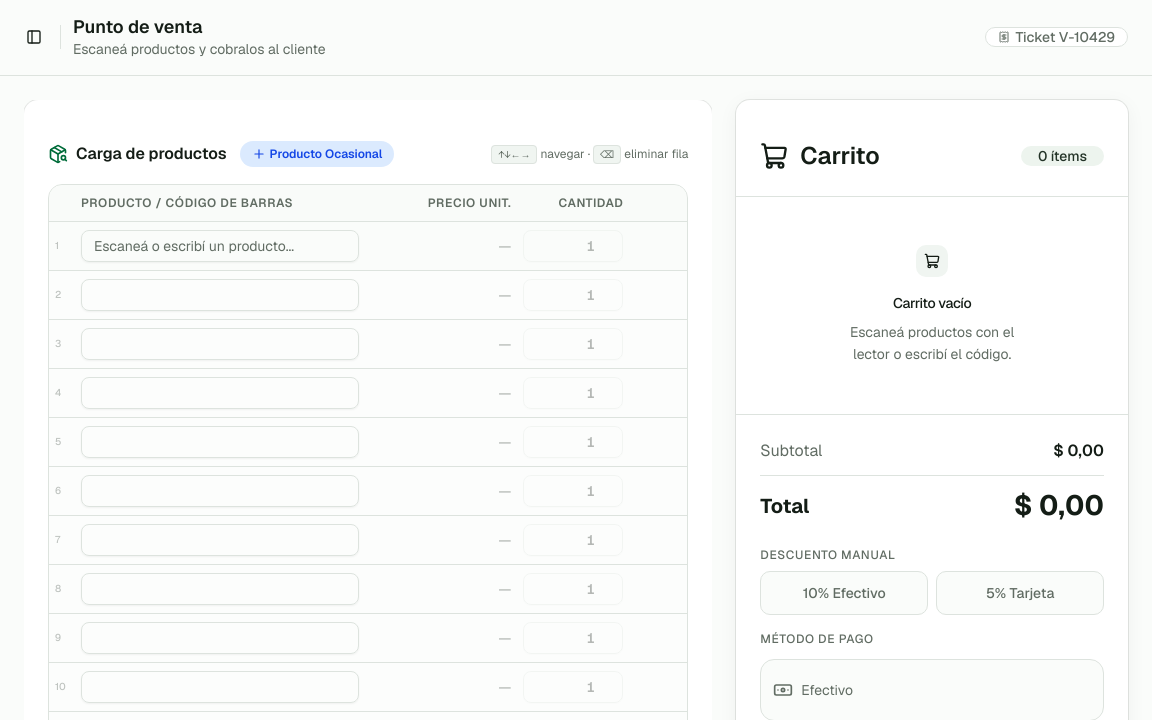
Test: PosTerminal sales flow › prints immediately with the backend sale total without a confirmation dialog
Later steps or results of the test are not shown.
In the field with placeholder "Escaneá o escribí un producto...": (220, 246) 81,230 -> 359,262, type "Promo"
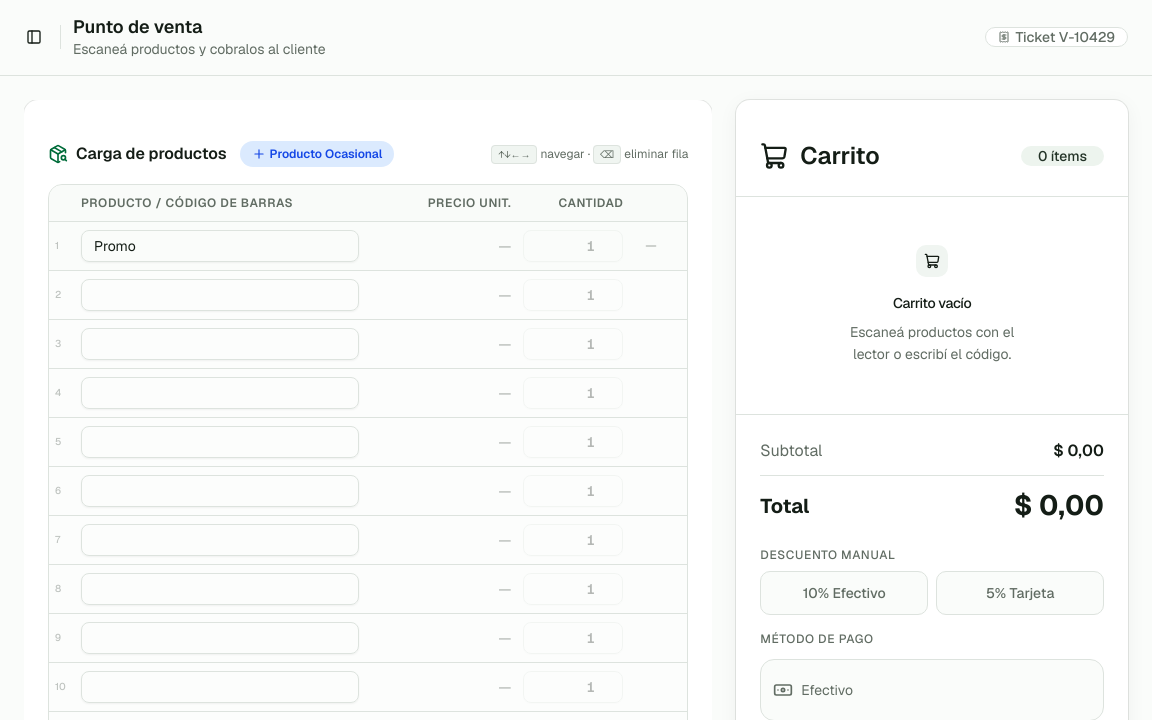
Press Enter in the field named "Producto fila 1", box 81,230 -> 359,262
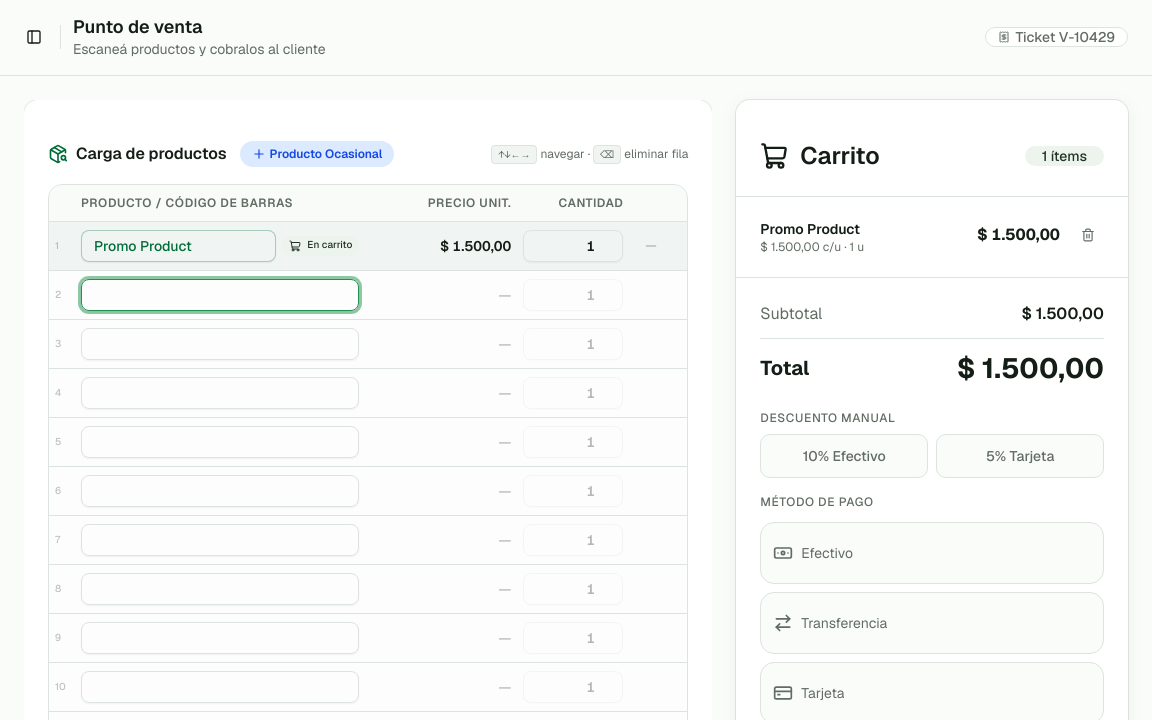
Replace the text in the number field named "Cantidad fila 1" with "3": (573, 246) 523,230 -> 623,262
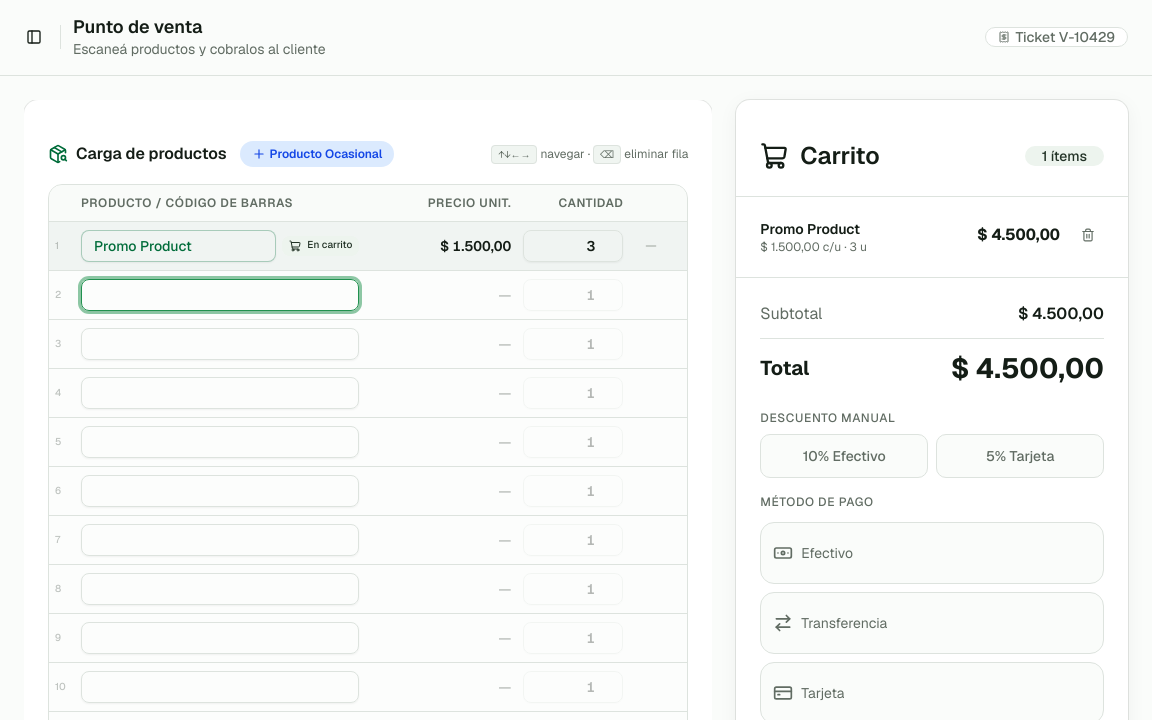
Press Enter in the number field named "Cantidad fila 1", box 523,230 -> 623,262
Check: the heading "Promo Product" is shown, box 760,218 -> 860,238
